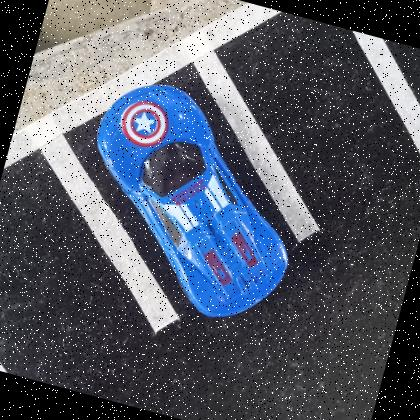Car: (96, 84, 288, 319)
